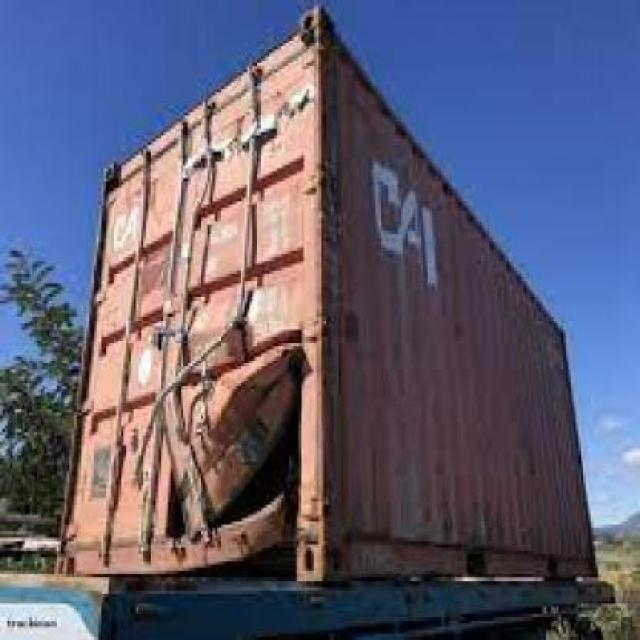Deframe: (162, 265, 311, 587)
Hole: (209, 362, 302, 528), (168, 474, 185, 538)
